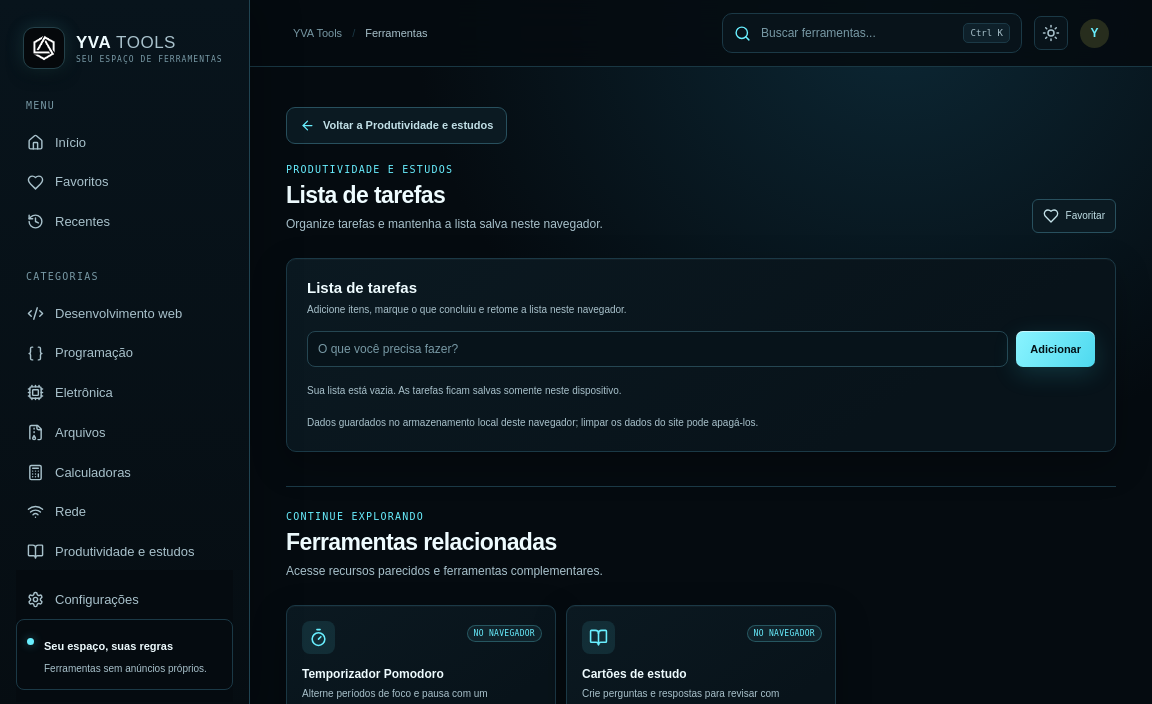
Test case: Parte 10: produtividade e estudos › adiciona tarefas e persiste a lista localmente
In the field named "Nova tarefa": (658, 349) x1=307 y1=330 x2=1008 y2=367, type "Ler capítulo"
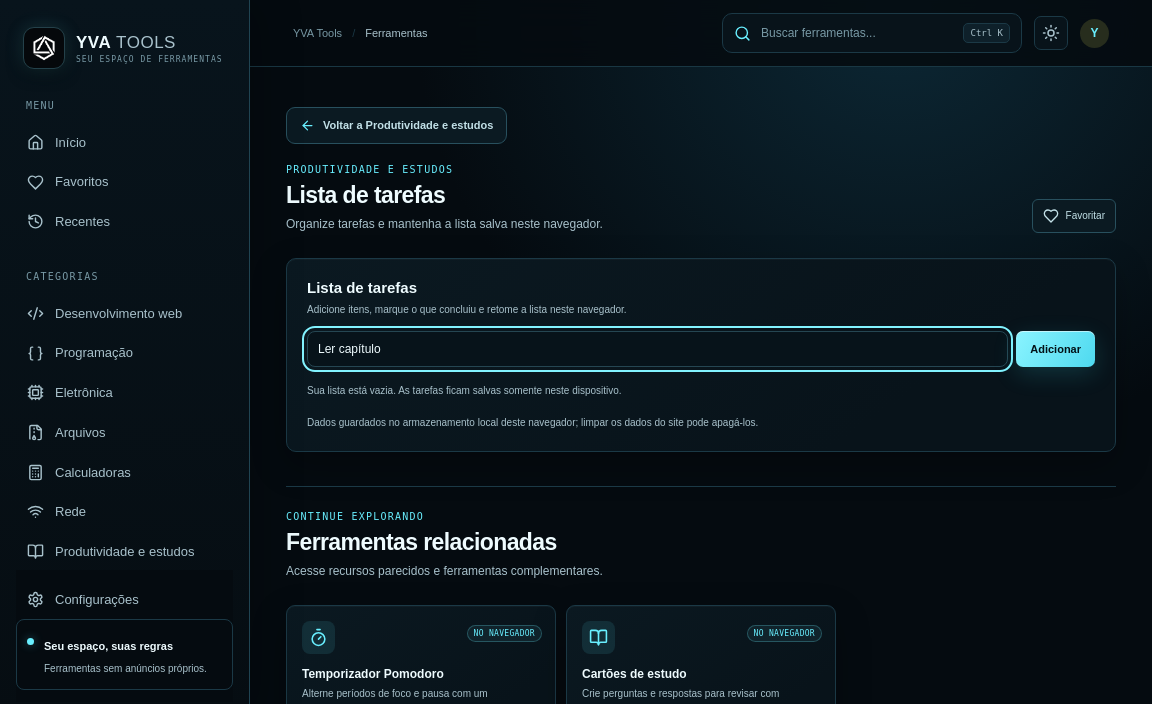
Click the button "Adicionar": (1056, 349) x1=1016 y1=330 x2=1095 y2=367
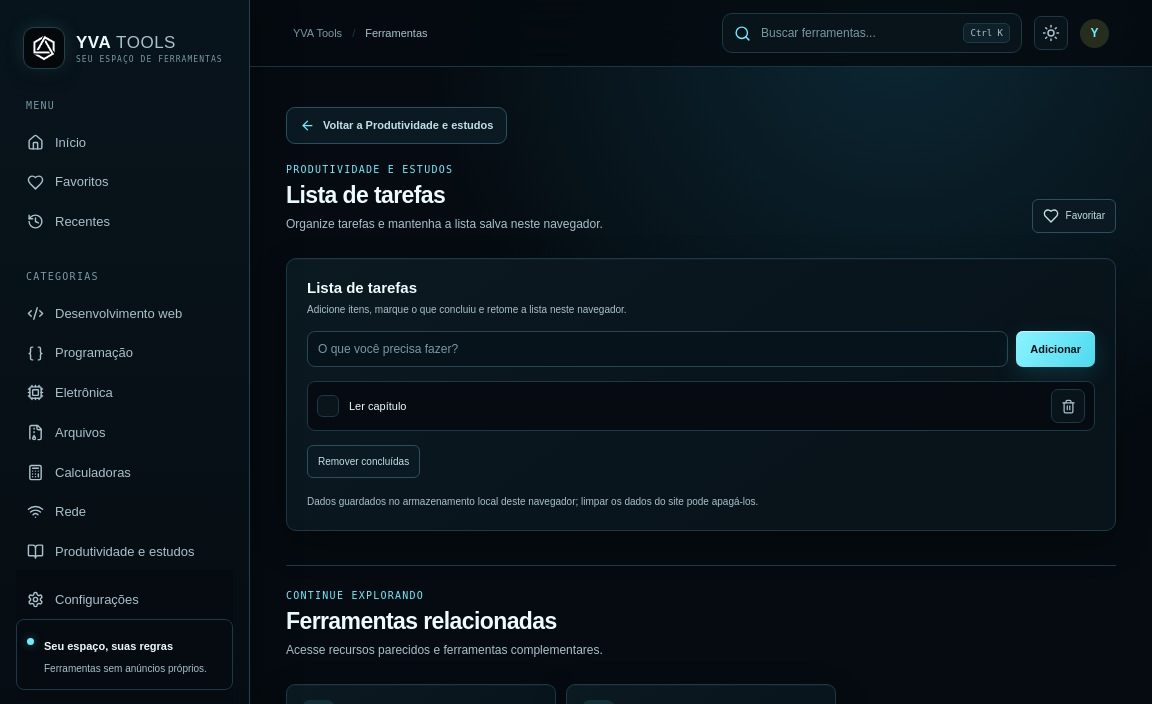
Check: the text "Ler capítulo" is shown, box x1=349 y1=400 x2=406 y2=412
